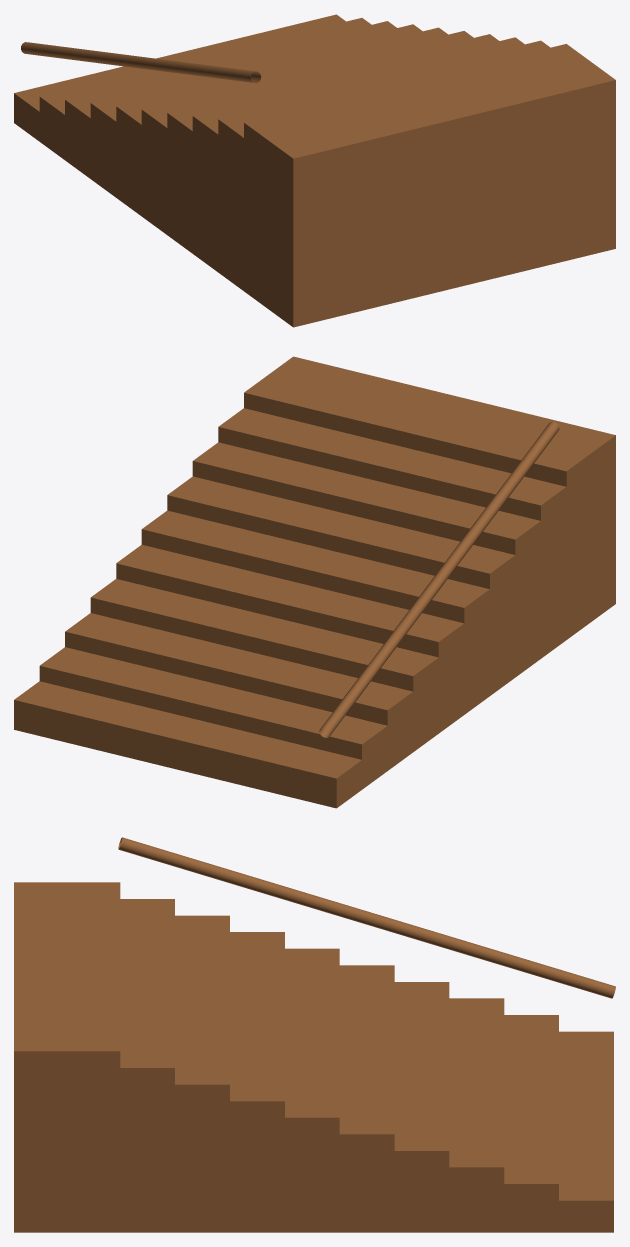
The model's file is Stairs.fbx.
3 renders of one model, top to bottom at view 1: azimuth 30°, elevation 25°; view 2: azimuth 150°, elevation 25°; view 3: azimuth 270°, elevation 25°, orthographic. The views are drawn at different scales.
Visible parts, largest first — view 1: Stairs, stairRails; view 2: Stairs, stairRails; view 3: Stairs, stairRails.
Boxes of the visible parts, x1,y1,x2,y2 form: Stairs: (14,14,615,327); stairRails: (21,42,261,83); Stairs: (14,356,615,808); stairRails: (319,421,559,737); Stairs: (14,882,613,1232); stairRails: (118,837,615,998).
Bounding box in the file's own units: 4 × 6.02 × 2.56.
